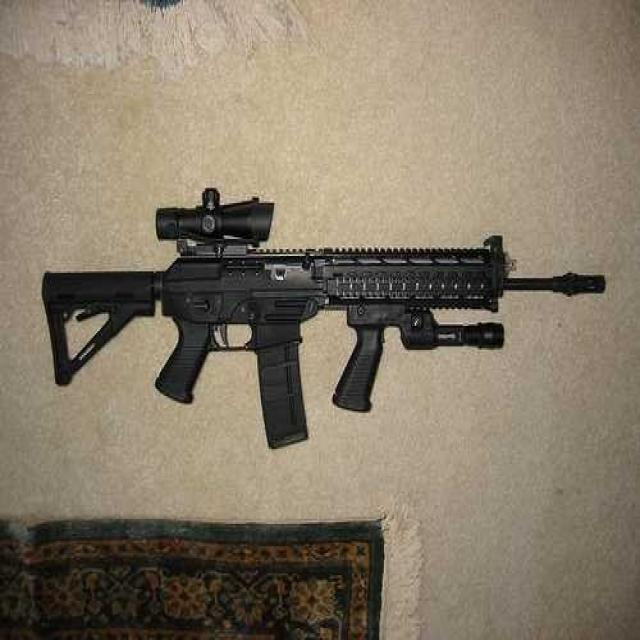RifleTel: (38, 178, 608, 458)
